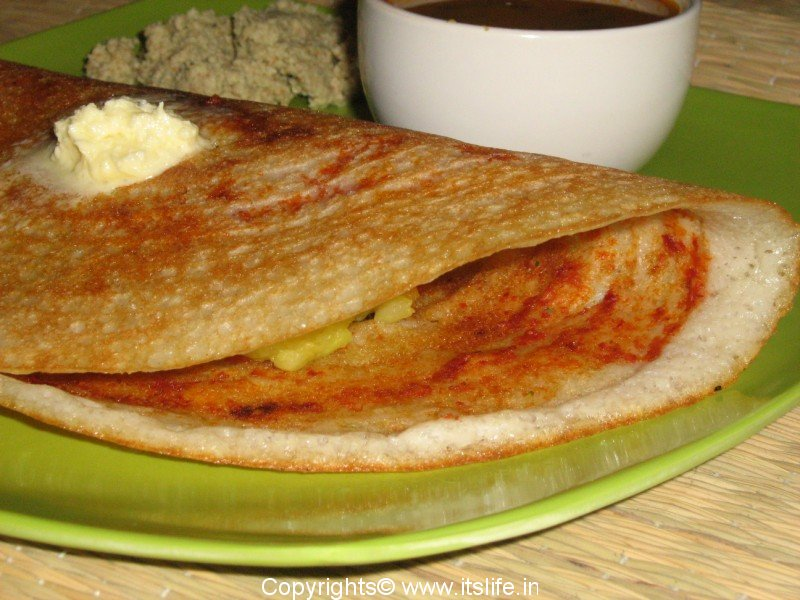dosa: (2, 54, 800, 484)
